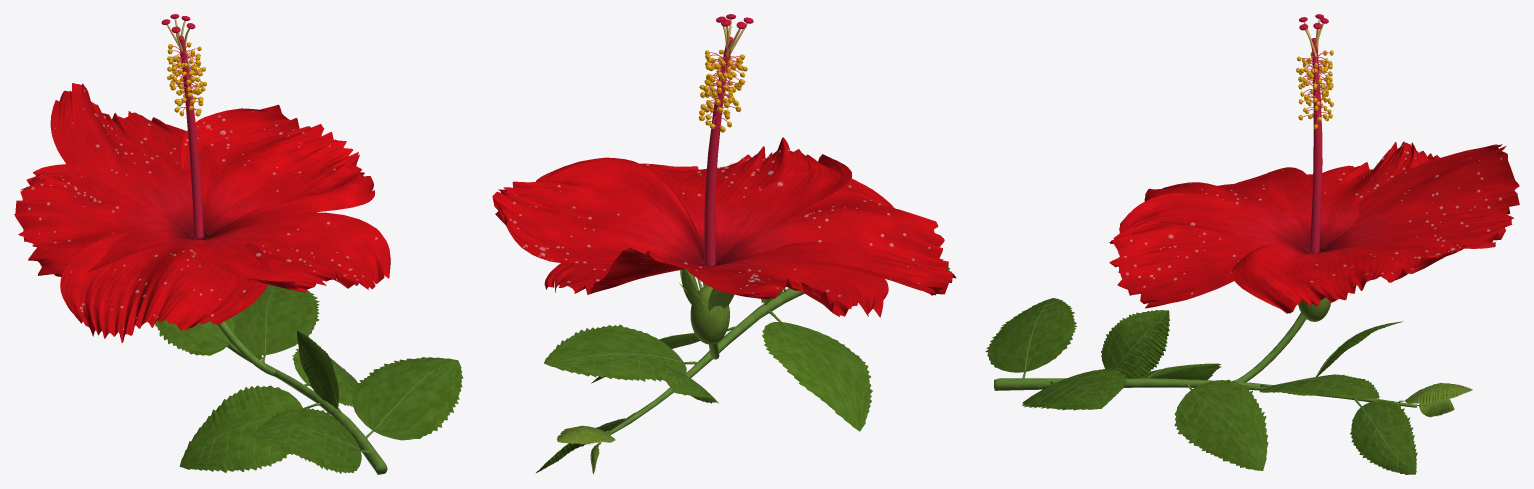
File: hibiscus-core.glb
3 renders of one model, left to right at view 1: azimuth 30°, elevation 25°; view 2: azimuth 150°, elevation 25°; view 3: azimuth 270°, elevation 25°, orthographic. The views are drawn at different scales.
Visible parts, largest first — view 1: Petal 5 • folded fan surface, Petal 3 • folded fan surface, Petal 1 • folded fan surface, Petal 4 • folded fan surface, Petal 2 • folded fan surface, Foliage leaf 02 • asymmetric serrated blade, Foliage leaf 04 • asymmetric serrated blade, Foliage leaf 01 • asymmetric serrated blade, Foliage leaf 06 • asymmetric serrated blade, 96 lobed golden anthers, Foliage leaf 01 petiole, Foliage leaf 01 curved midrib (+4 smaller); view 2: Petal 5 • folded fan surface, Petal 3 • folded fan surface, Petal 4 • folded fan surface, Petal 2 • folded fan surface, Foliage leaf 04 • asymmetric serrated blade, Foliage leaf 06 • asymmetric serrated blade, 96 lobed golden anthers, Petal 1 • folded fan surface, Foliage leaf 01 petiole, Foliage leaf 01 curved midrib, Green receptacle, Foliage leaf 07 • asymmetric serrated blade (+4 smaller); view 3: Petal 1 • folded fan surface, Petal 4 • folded fan surface, Petal 5 • folded fan surface, Foliage leaf 05 • asymmetric serrated blade, Petal 2 • folded fan surface, Foliage leaf 01 • asymmetric serrated blade, Petal 3 • folded fan surface, Foliage leaf 08 • asymmetric serrated blade, 96 lobed golden anthers, Foliage leaf 03 • asymmetric serrated blade, Foliage leaf 01 curved midrib, Foliage leaf 02 • asymmetric serrated blade (+6 smaller).
Boxes of the visible parts, x1=… form: Petal 5 • folded fan surface: x1=180, y1=104, x2=374, y2=239; Petal 3 • folded fan surface: x1=60, y1=231, x2=270, y2=342; Petal 1 • folded fan surface: x1=50, y1=83, x2=217, y2=238; Petal 4 • folded fan surface: x1=194, y1=212, x2=390, y2=292; Petal 2 • folded fan surface: x1=14, y1=164, x2=193, y2=276; Foliage leaf 02 • asymmetric serrated blade: x1=351, y1=357, x2=463, y2=440; Foliage leaf 04 • asymmetric serrated blade: x1=179, y1=385, x2=303, y2=472; Foliage leaf 01 • asymmetric serrated blade: x1=251, y1=407, x2=361, y2=473; Foliage leaf 06 • asymmetric serrated blade: x1=233, y1=284, x2=319, y2=355; 96 lobed golden anthers: x1=161, y1=14, x2=206, y2=239; Foliage leaf 01 petiole: x1=218, y1=321, x2=387, y2=474; Foliage leaf 01 curved midrib: x1=160, y1=286, x2=459, y2=470; Petal 5 • folded fan surface: x1=492, y1=157, x2=704, y2=266; Petal 3 • folded fan surface: x1=715, y1=172, x2=956, y2=295; Petal 4 • folded fan surface: x1=640, y1=137, x2=851, y2=264; Petal 2 • folded fan surface: x1=687, y1=242, x2=888, y2=317; Foliage leaf 04 • asymmetric serrated blade: x1=762, y1=321, x2=872, y2=431; Foliage leaf 06 • asymmetric serrated blade: x1=544, y1=324, x2=686, y2=381; 96 lobed golden anthers: x1=698, y1=14, x2=753, y2=266; Petal 1 • folded fan surface: x1=544, y1=247, x2=746, y2=294; Foliage leaf 01 petiole: x1=595, y1=288, x2=804, y2=443; Foliage leaf 01 curved midrib: x1=537, y1=321, x2=868, y2=471; Green receptacle: x1=690, y1=285, x2=729, y2=344; Foliage leaf 07 • asymmetric serrated blade: x1=645, y1=356, x2=718, y2=403; Petal 1 • folded fan surface: x1=1321, y1=144, x2=1519, y2=252; Petal 4 • folded fan surface: x1=1109, y1=193, x2=1305, y2=308; Petal 5 • folded fan surface: x1=1231, y1=237, x2=1465, y2=313; Foliage leaf 05 • asymmetric serrated blade: x1=1174, y1=379, x2=1268, y2=470; Petal 2 • folded fan surface: x1=1268, y1=141, x2=1439, y2=252; Foliage leaf 01 • asymmetric serrated blade: x1=985, y1=298, x2=1076, y2=372; Petal 3 • folded fan surface: x1=1144, y1=167, x2=1312, y2=253; Foliage leaf 08 • asymmetric serrated blade: x1=1350, y1=400, x2=1417, y2=474; 96 lobed golden anthers: x1=1296, y1=14, x2=1333, y2=253; Foliage leaf 03 • asymmetric serrated blade: x1=1101, y1=310, x2=1169, y2=378; Foliage leaf 01 curved midrib: x1=992, y1=300, x2=1470, y2=472; Foliage leaf 02 • asymmetric serrated blade: x1=1022, y1=368, x2=1127, y2=410.
Size of the model in its own units: 6.38 by 7.27 by 8.87.
Materials: 20 (20 with a texture image).
